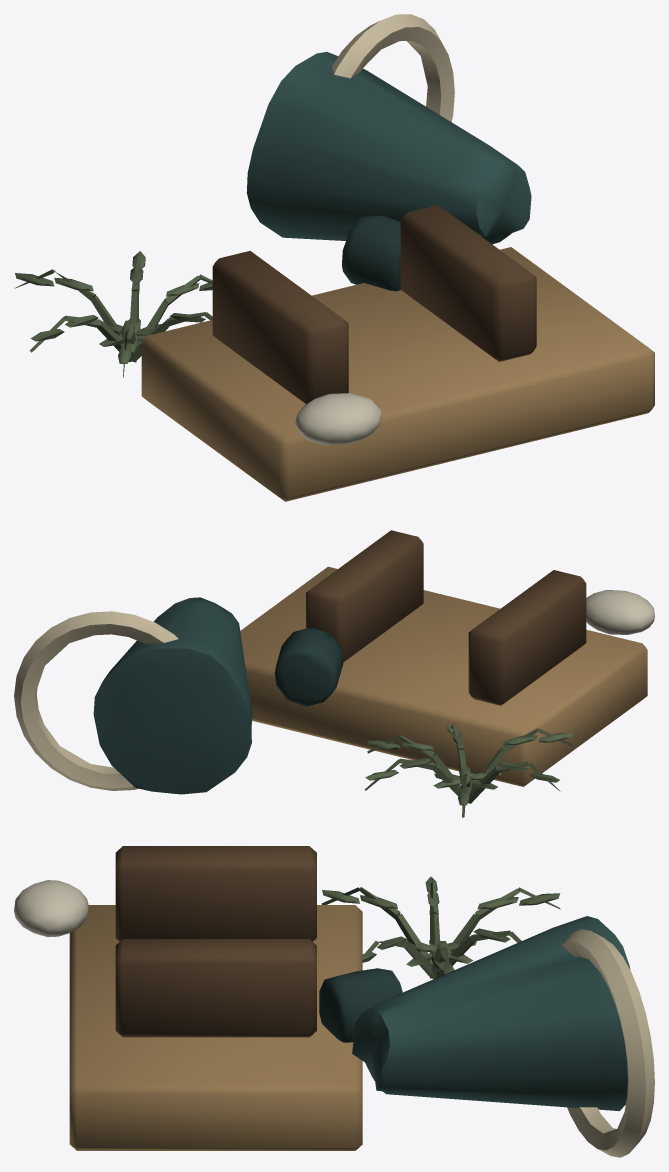
The model's file is echo_horn_b_lod1.glb.
The picture shows the model from 3 angles, top to bottom: view 1: azimuth 30°, elevation 25°; view 2: azimuth 150°, elevation 25°; view 3: azimuth 270°, elevation 25°; orthographic projection. The views are drawn at different scales.
Visible parts, largest first — view 1: Surface.001; view 2: Surface.001; view 3: Surface.001.
Boxes of the visible parts, x1,y1,x2,y2 form: Surface.001: (15, 14, 654, 501); Surface.001: (14, 530, 654, 817); Surface.001: (14, 846, 654, 1157).
Bounding box in the file's own units: 3.36 × 1.27 × 3.5.
